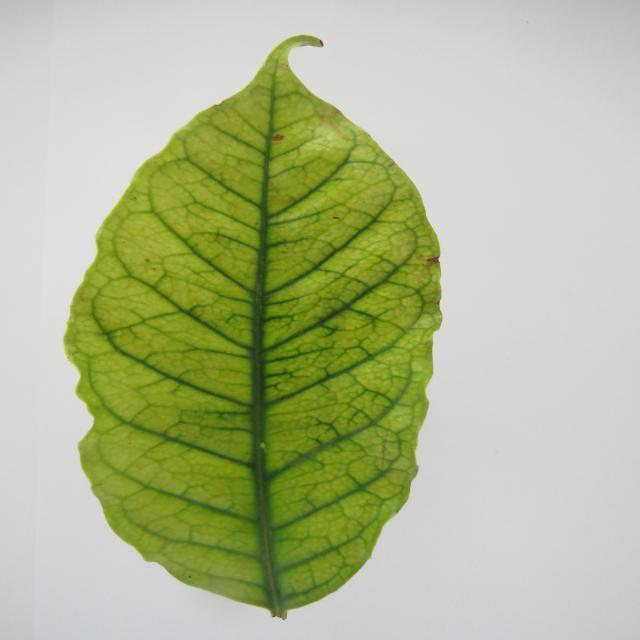DeficienciaNutricional-Magnesio: (65, 36, 440, 618)
